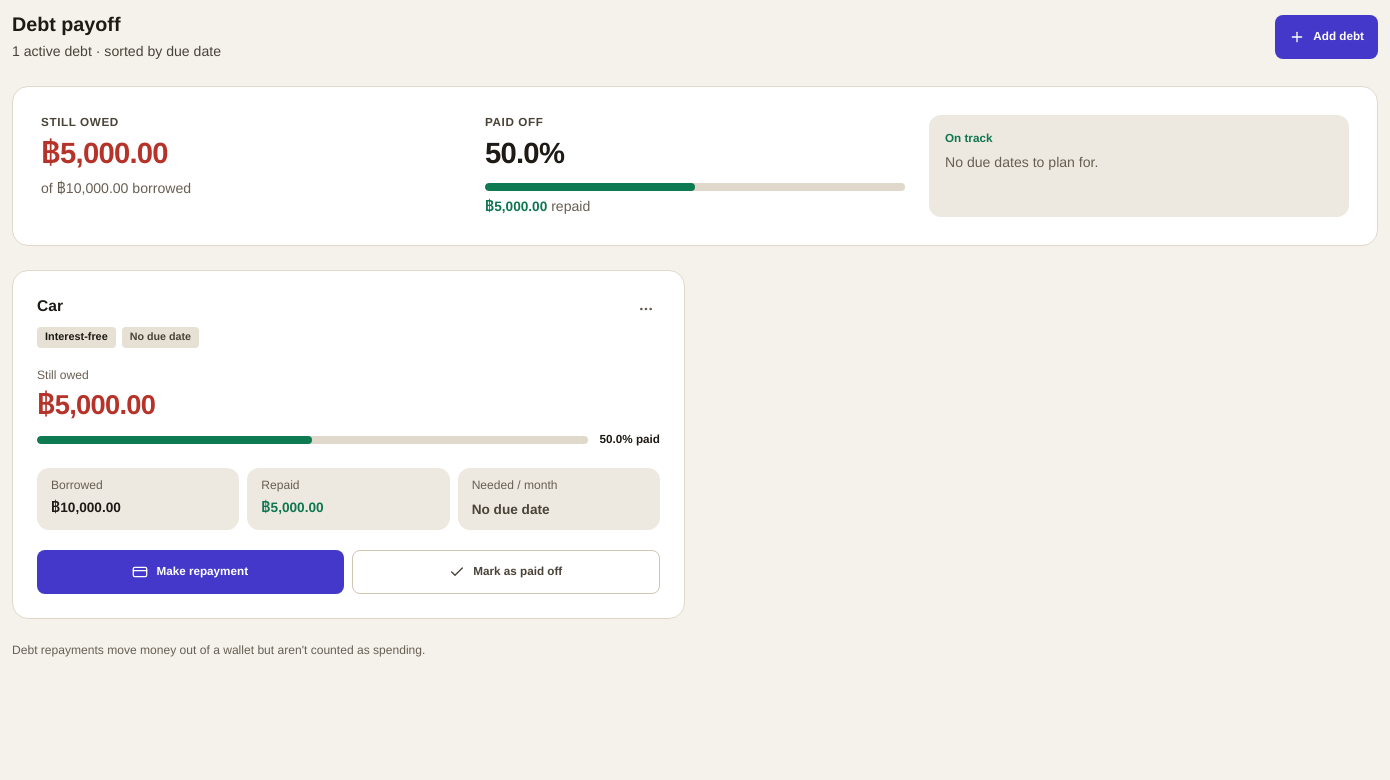
a debt card › keeps Edit and Delete in its ⋯ menu, which holds nothing until opened
What coordinates should you click on to do the following:
click the button with id "debt-menu-btn-a"
I would click on:
 (646, 309)
Its box is [624,287,668,331].
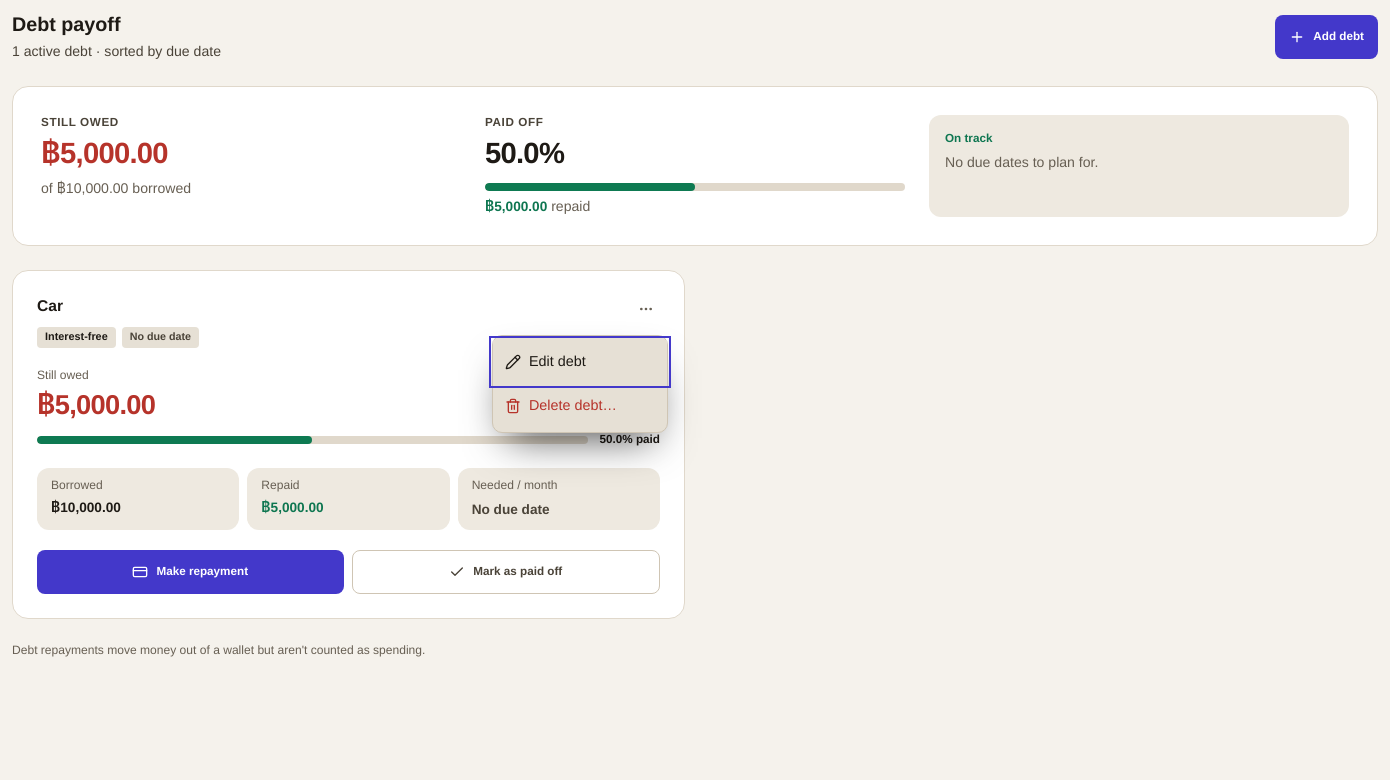
Now the menu item with id "debt-edit-a" reads "Edit debt", box [493,340,667,384]
Now the menu item with id "debt-delete-a" reads "Delete debt…", box [493,384,667,428]
